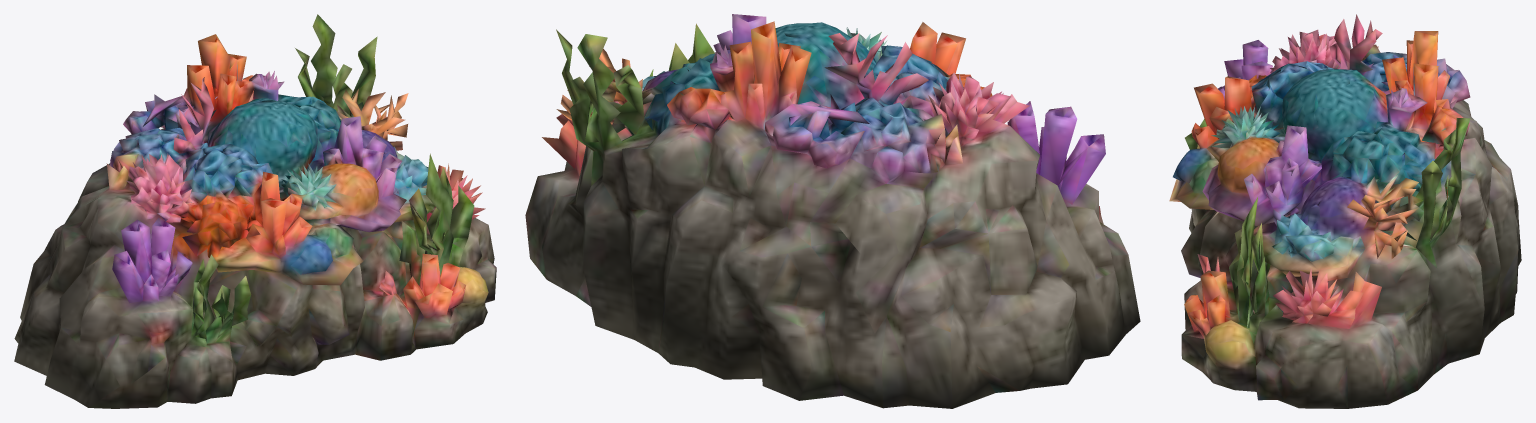
Rendered from coral1.glb.
3 views of the same model, side by side, from view 1: azimuth 30°, elevation 25°; view 2: azimuth 150°, elevation 25°; view 3: azimuth 270°, elevation 25° (orthographic). The views are drawn at different scales.
Parts seen in each view (by area): view 1: prop_lo; view 2: prop_lo; view 3: prop_lo.
Part boxes in pixels (x1,y1,x2,y2): prop_lo: (14, 14, 496, 408); prop_lo: (525, 14, 1140, 408); prop_lo: (1169, 14, 1521, 408).
Size of the model in its own units: 1.9 by 1.03 by 1.24.
Materials: 1 (1 with a texture image).
